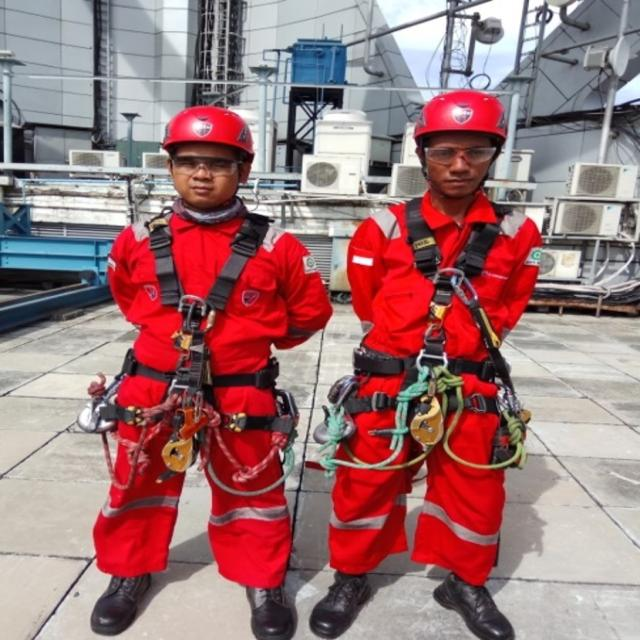shoes: (429, 568, 516, 640), (88, 567, 159, 637), (309, 572, 378, 639), (244, 583, 299, 640)
